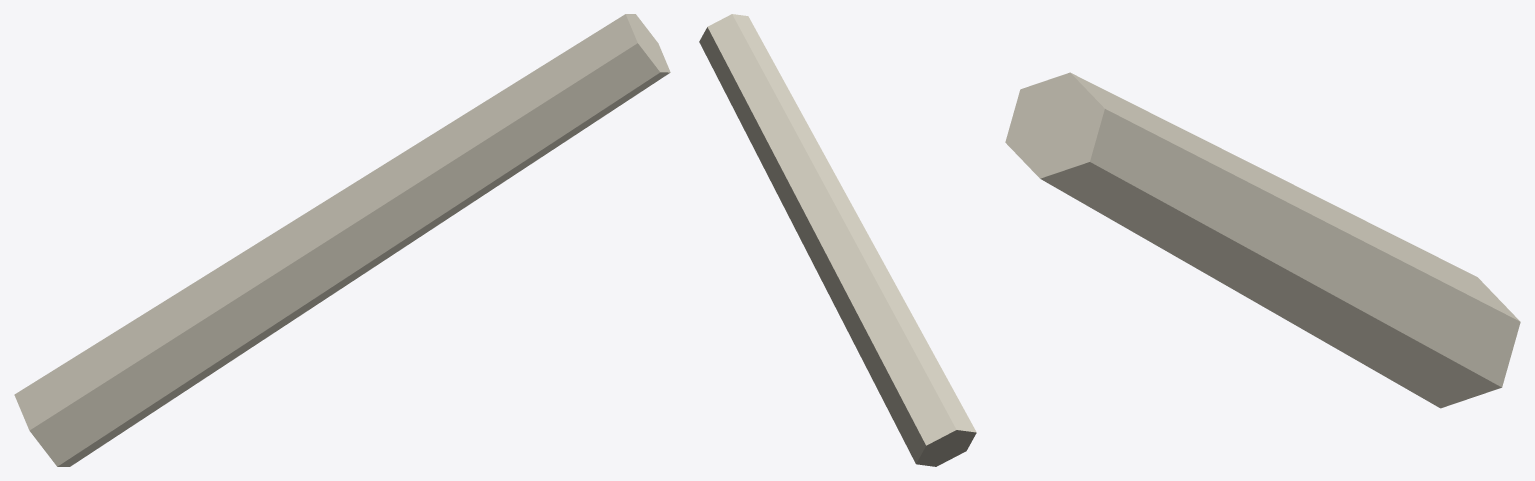
File: rm2_leg_fl_femur.obj
The picture shows the model from 3 angles, left to right: view 1: azimuth 30°, elevation 25°; view 2: azimuth 150°, elevation 25°; view 3: azimuth 270°, elevation 25°; orthographic projection. The views are drawn at different scales.
Parts seen in each view (by area): view 1: rm2_leg_fl_femur; view 2: rm2_leg_fl_femur; view 3: rm2_leg_fl_femur.
Boxes of the visible parts, bbox=[...] form: rm2_leg_fl_femur: bbox=[14, 14, 670, 466]; rm2_leg_fl_femur: bbox=[699, 14, 976, 466]; rm2_leg_fl_femur: bbox=[1005, 72, 1520, 408].
Size of the model in its own units: 0.5078 by 0.4225 by 0.3155.
